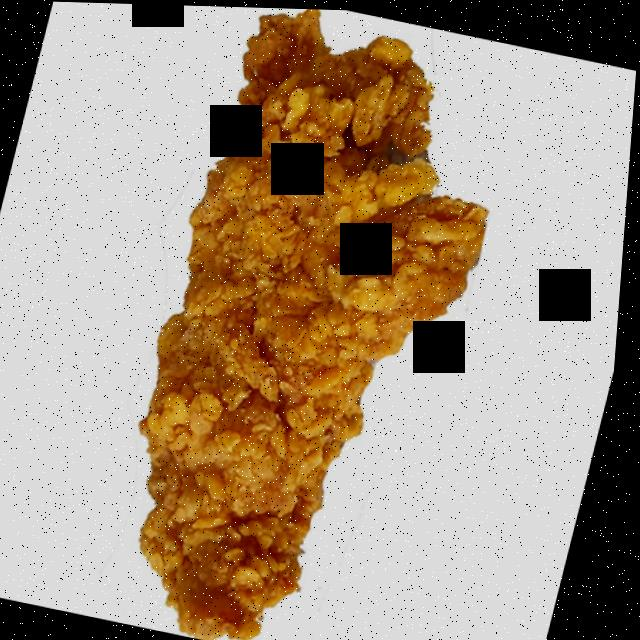Frango: (78, 29, 527, 640)
